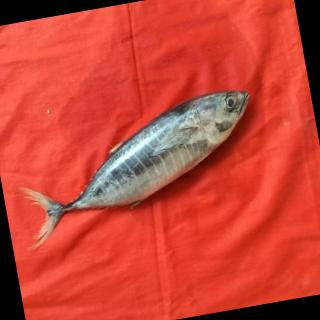Ikan: (10, 77, 279, 264)
